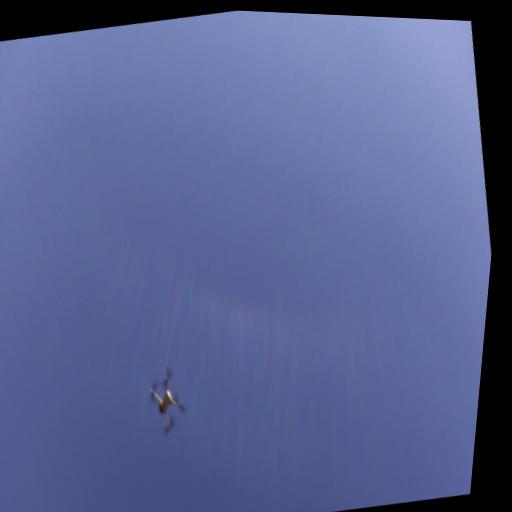drones: (139, 362, 194, 444)
